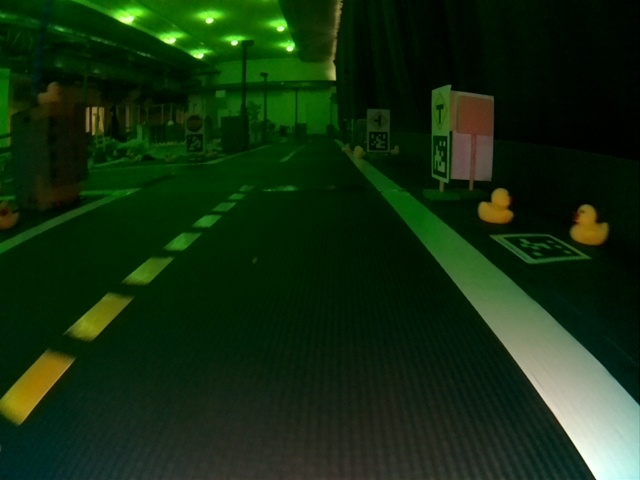Duckie: (571, 203, 606, 243), (478, 188, 514, 224), (1, 203, 20, 229), (38, 83, 60, 103), (391, 145, 400, 154), (354, 146, 362, 156)
Intersection sign: (433, 91, 449, 129), (369, 111, 388, 128)
QR code: (494, 234, 587, 264), (432, 136, 449, 180), (368, 133, 388, 150), (187, 135, 202, 152)
Stop sign: (186, 115, 201, 130)
